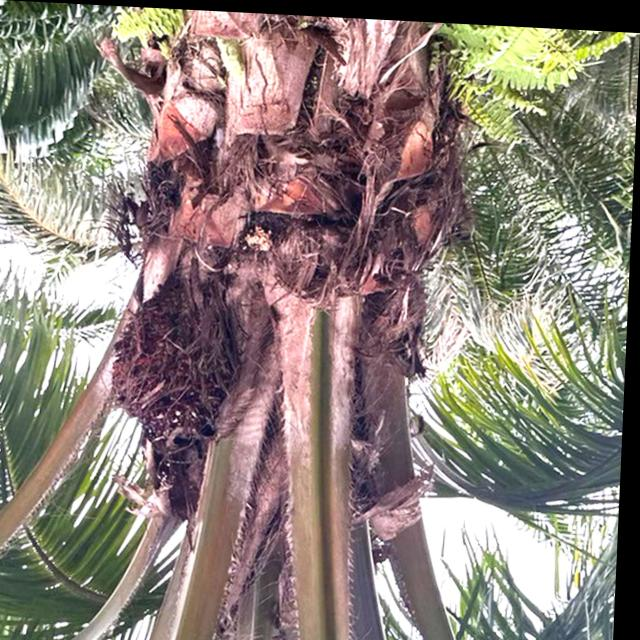ripe: (100, 264, 258, 462)
